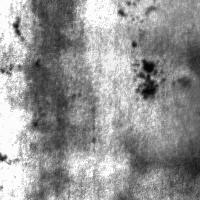patches: (27, 23, 171, 167), (21, 1, 82, 154), (112, 61, 200, 163), (123, 101, 200, 185), (124, 0, 200, 57), (130, 21, 200, 63), (23, 151, 71, 200), (136, 58, 160, 99), (6, 12, 27, 43), (172, 71, 194, 97)
